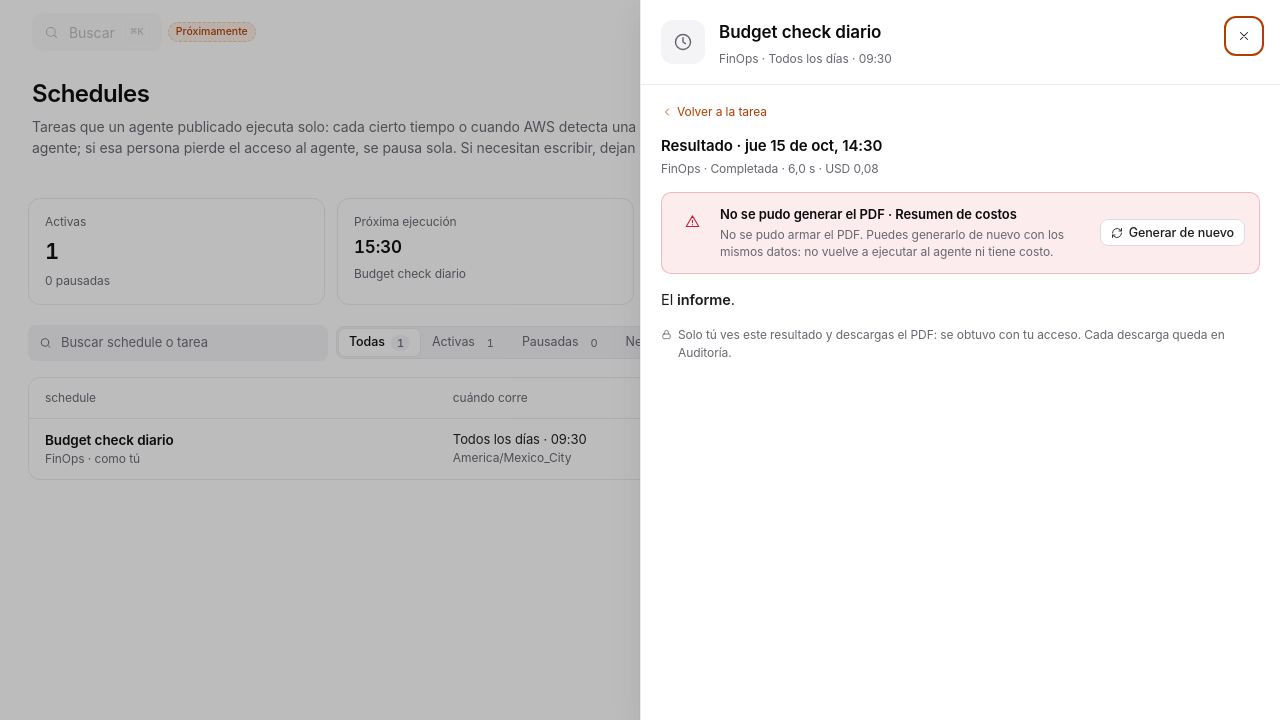
Scenario: task reports › generates a PDF again only after render, without running the agent
Expected: the text "No se pudo generar el PDF · Resumen de costos" is shown, [720,206,1017,222]
Expected: the text "No se pudo armar el PDF. Puedes generarlo de nuevo" is shown, [720,226,1088,261]
Click the button "Generar de nuevo": (1172, 233) [1100,219,1245,246]
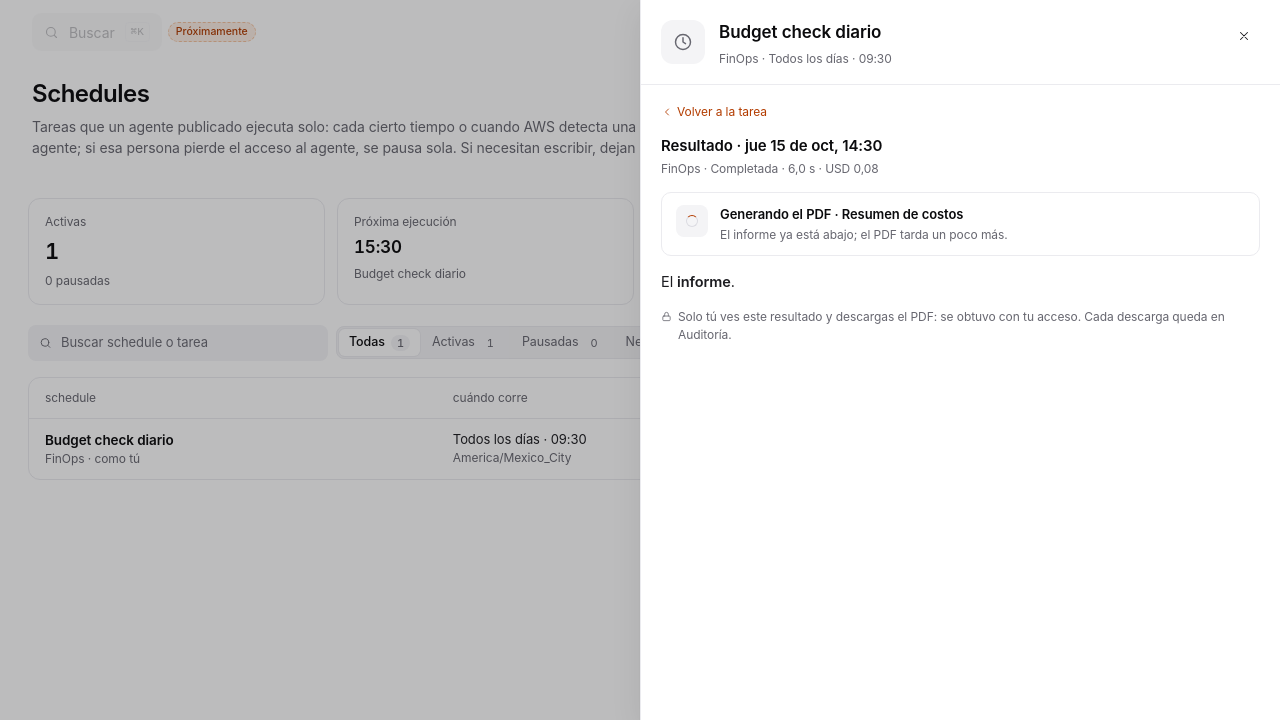
Expected: the text "Generando el PDF · Resumen de costos" is shown, [720,206,963,222]
